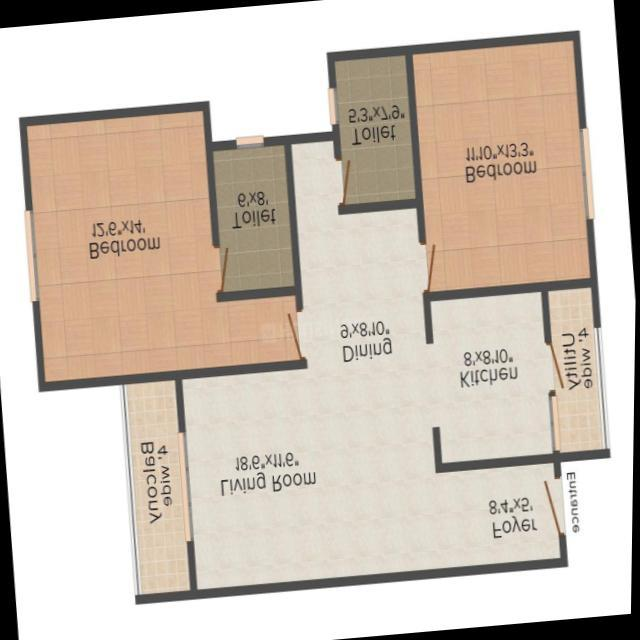Balcony-Sitout: (117, 376, 199, 604)
Bedroom: (402, 28, 598, 296)
Bedroom with Toilet: (16, 101, 305, 383)
Enterance-Foyer: (449, 464, 583, 572)
Kitchen: (422, 282, 557, 469)
Living: (172, 347, 450, 601)
Toilet: (324, 43, 422, 216), (206, 135, 301, 304)
Utility: (540, 277, 607, 459)
